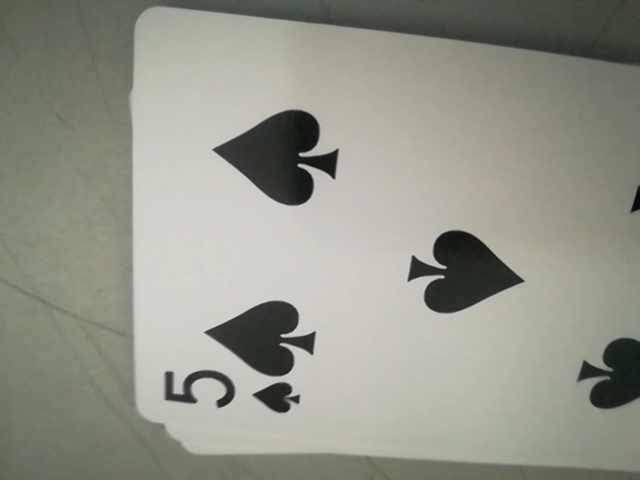ht 5: (152, 365, 312, 430)
